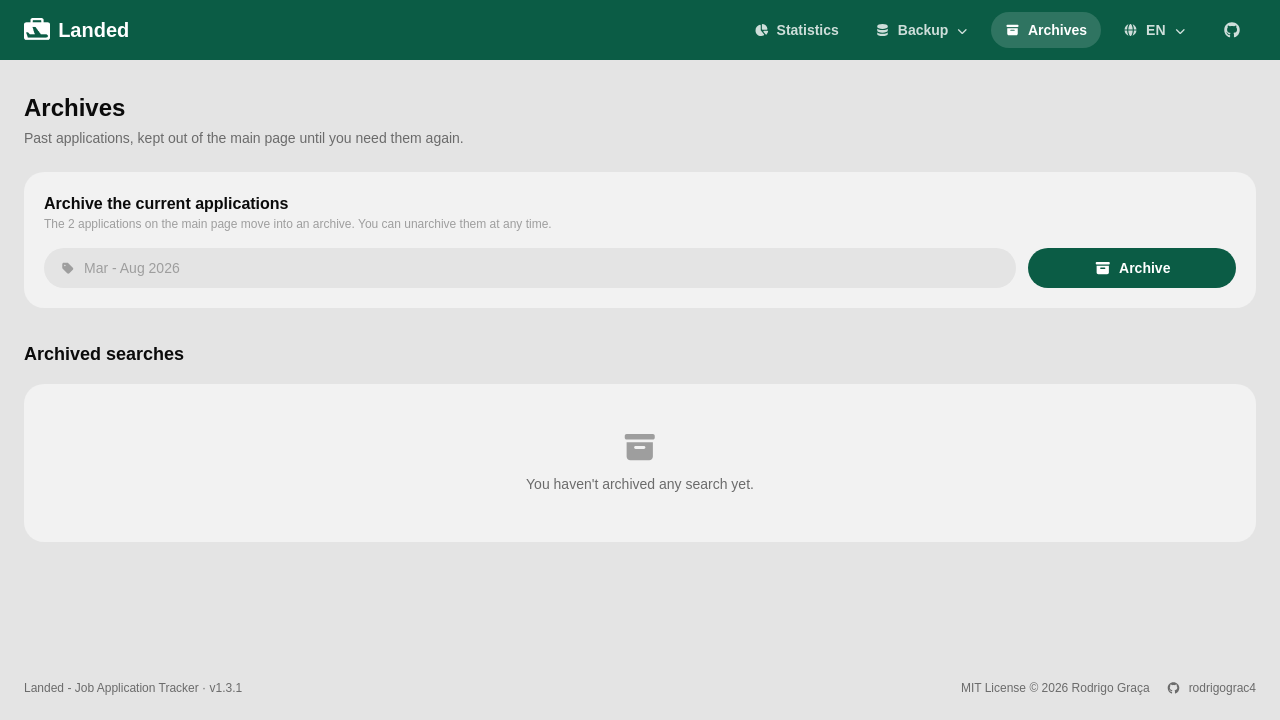
Test: archiving a search › names the archive after its months when left blank
What coordinates should you click on to do the following:
click the button "Archive"
I would click on:
 (1132, 268)
Its box is [1028,248,1236,288].
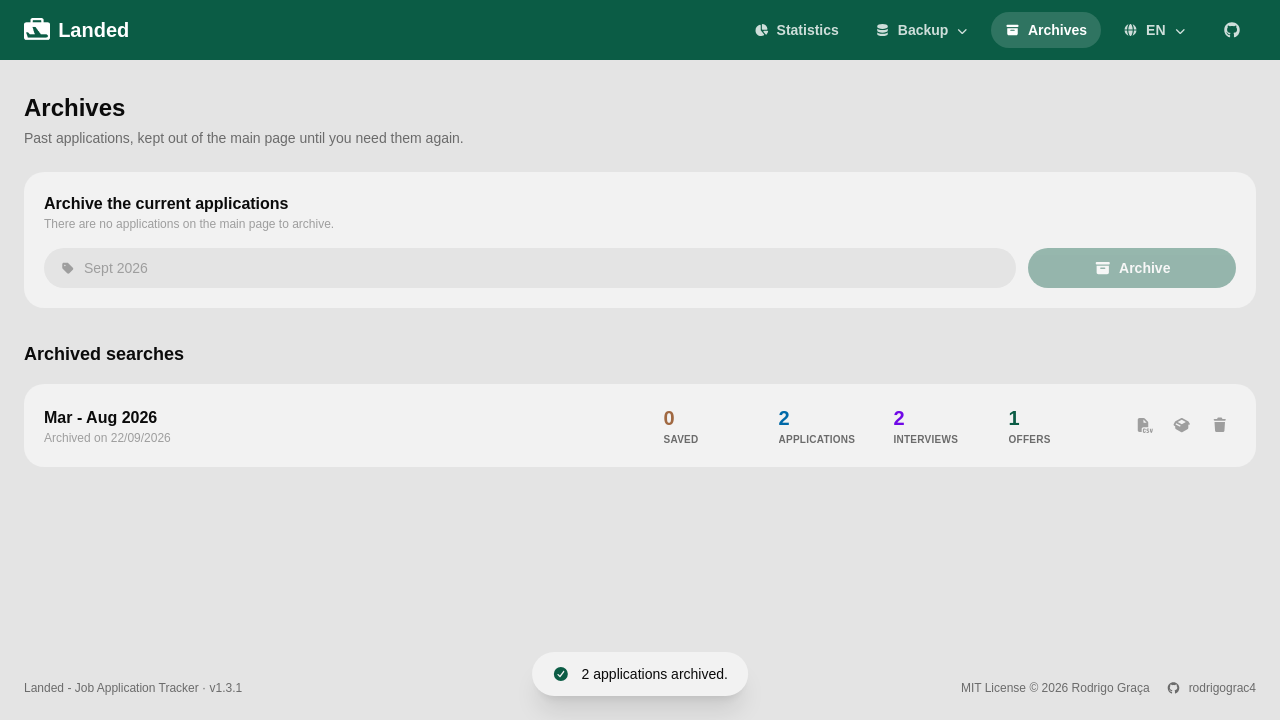
Result: the heading "Mar - Aug 2026" is shown at [44,408,157,426]
